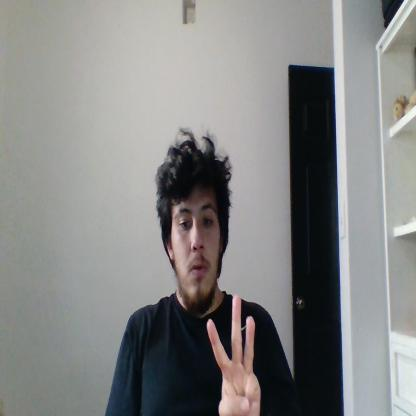W: (207, 295, 261, 415)
